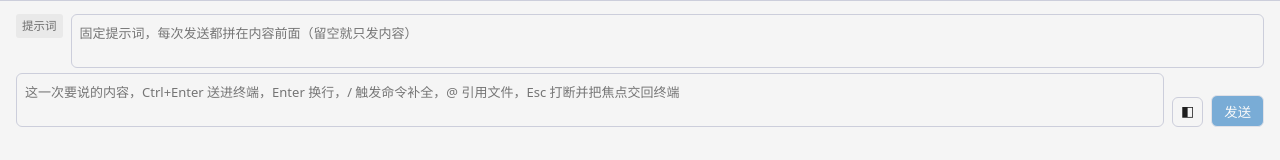
Scenario: 终端输入框 › Enter 在弹层开着时是「选中这条命令」，不是把半截命令发进终端
Replace the text in the 2nd text box with "/mod" at {"x": 590, "y": 100}, box [16,73,1164,127]
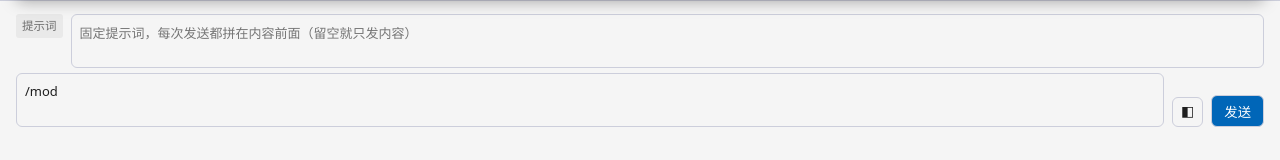
Press Enter in the 2nd text box, box [16,73,1164,127]
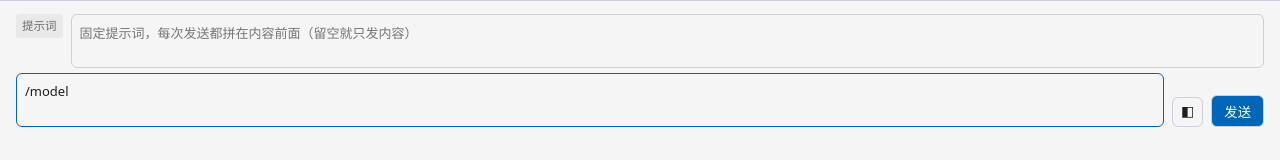
Now the 2nd text box holds "/model ", box [16,73,1164,127]
